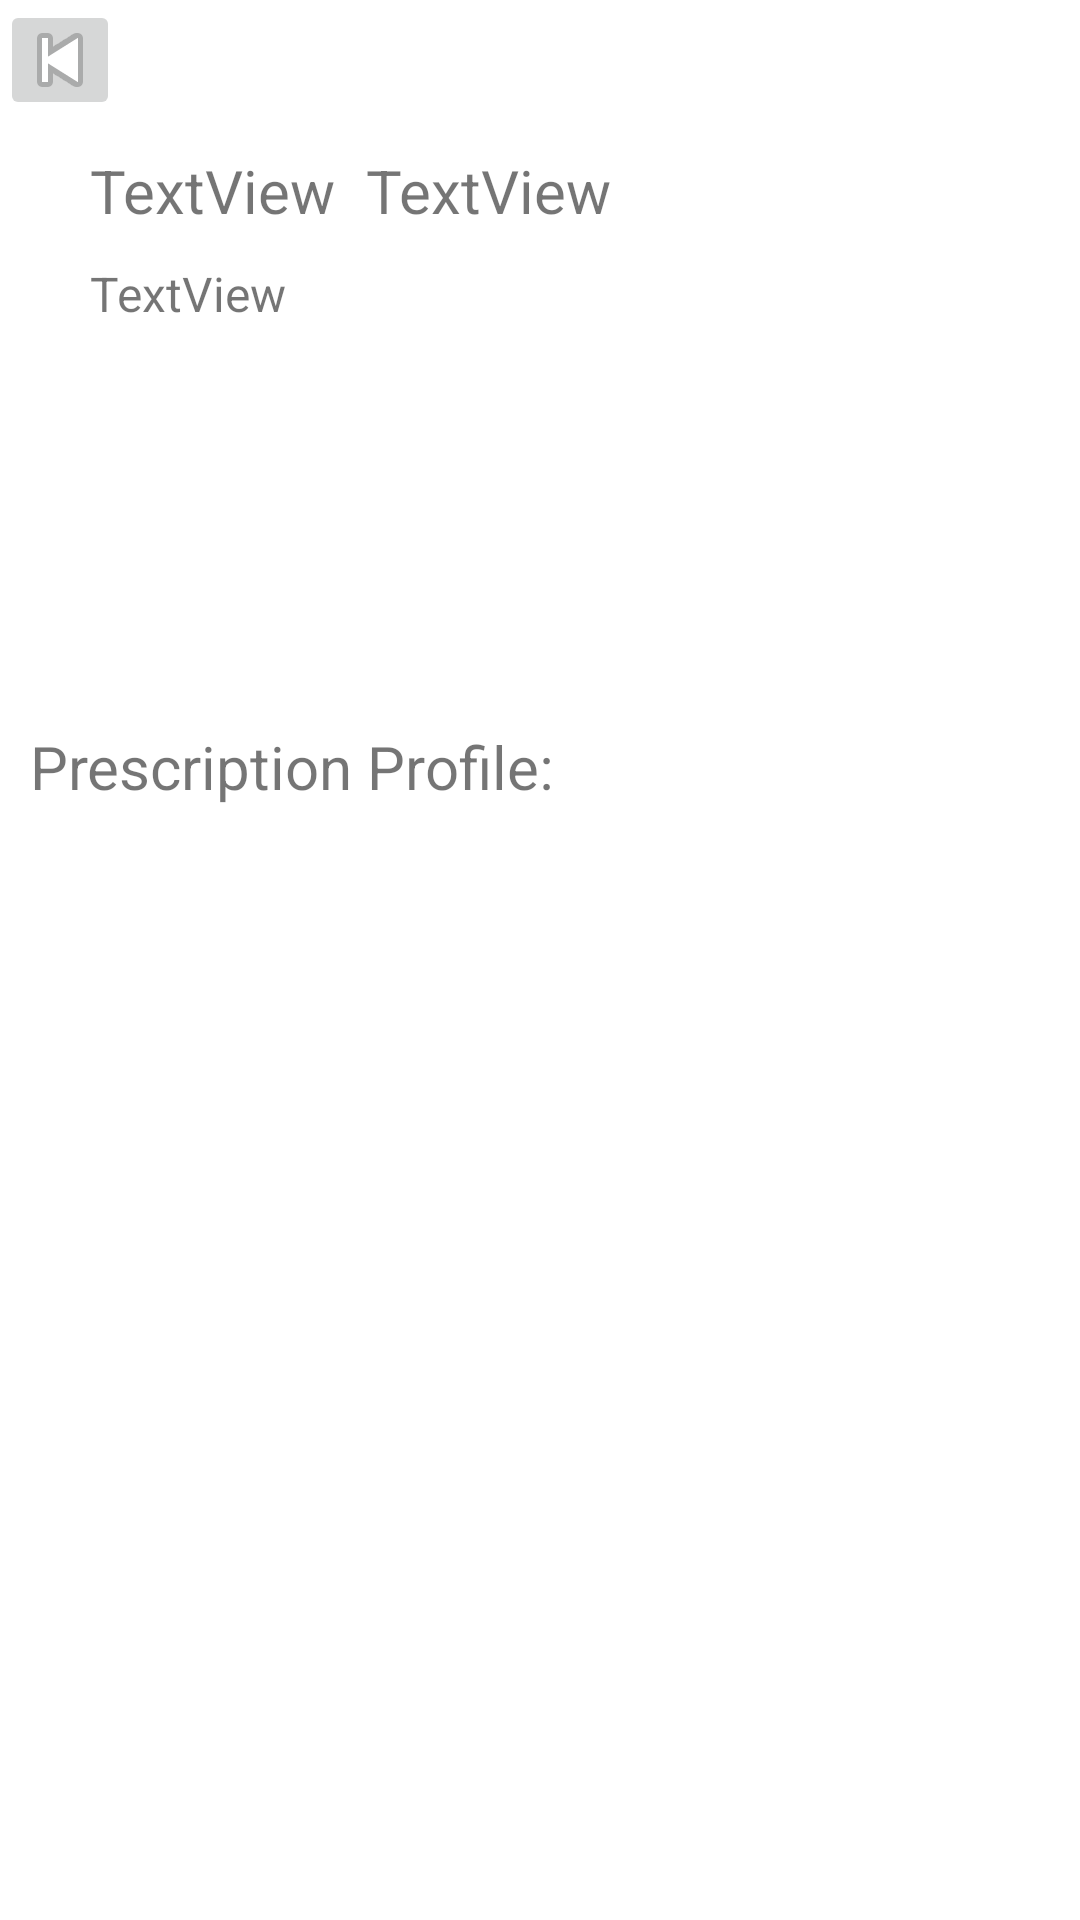

Icons on this 1080×1920 Android screen, each with its box as (x1, y1, x2, y2):
previous: (12, 18, 108, 102)
